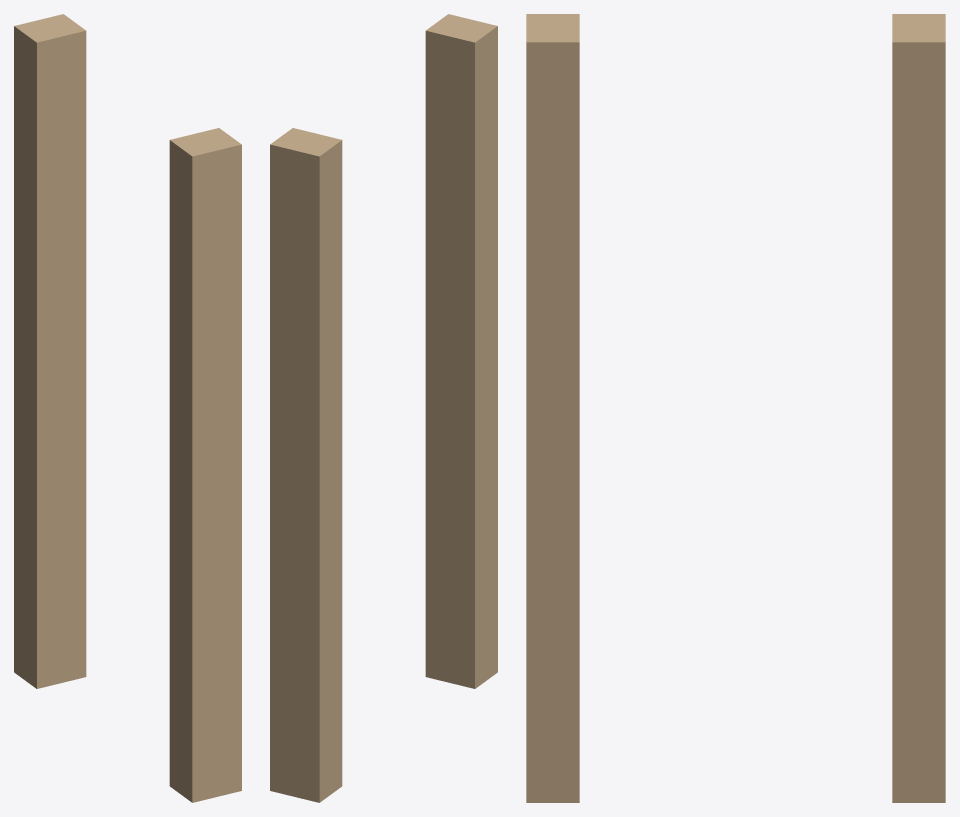
The model's file is detail_028.glb.
The picture shows the model from 3 angles, left to right: view 1: azimuth 30°, elevation 25°; view 2: azimuth 150°, elevation 25°; view 3: azimuth 270°, elevation 25°; orthographic projection. The views are drawn at different scales.
Visible parts, largest first — view 1: detail_028; view 2: detail_028; view 3: detail_028.
Part boxes in pixels (x1=…): detail_028: x1=14, y1=14, x2=241, y2=802; detail_028: x1=270, y1=14, x2=497, y2=802; detail_028: x1=526, y1=14, x2=945, y2=802.
Bounding box in the file's own units: 0.05 × 0.625 × 0.3125.
